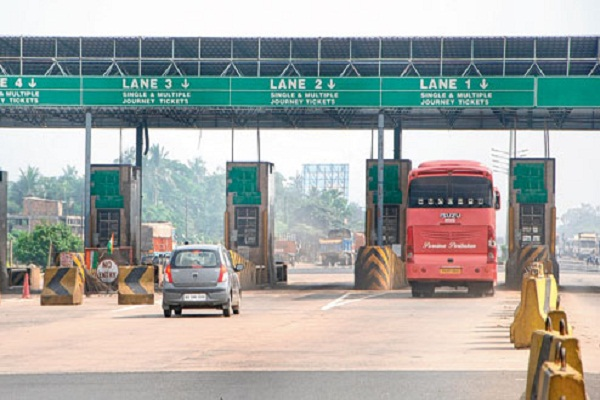toll plaza: (63, 31, 600, 131)
